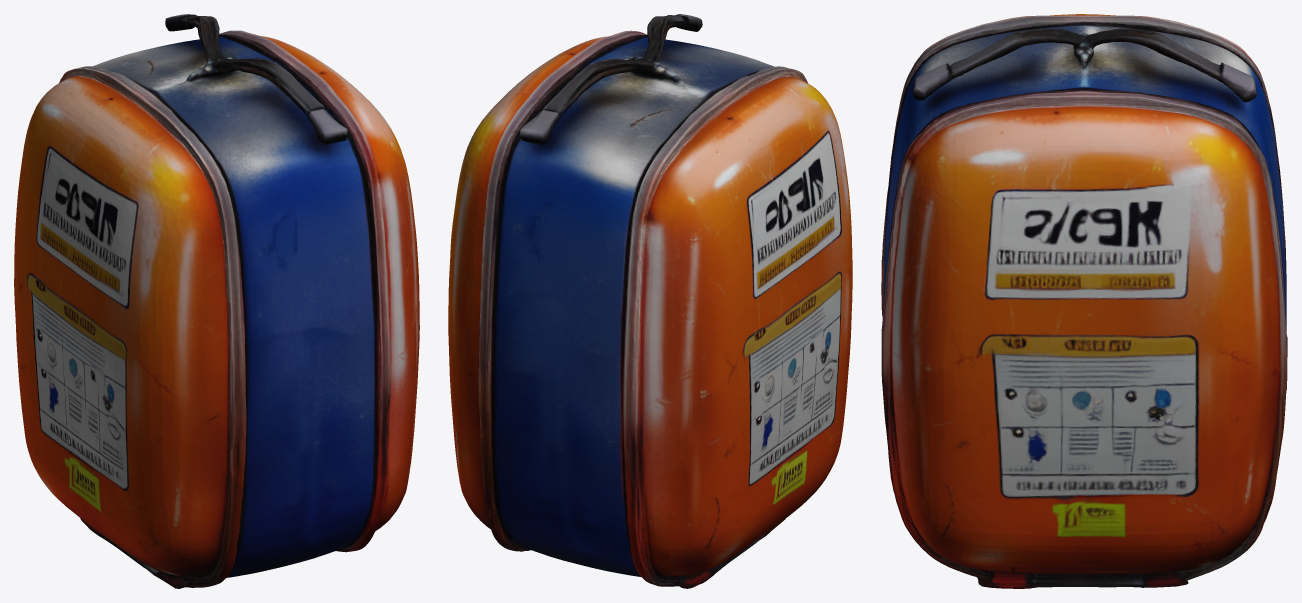
The model's file is ppe-scsr.glb.
3 views of the same model, side by side, from view 1: azimuth 30°, elevation 25°; view 2: azimuth 150°, elevation 25°; view 3: azimuth 270°, elevation 25° (orthographic). The views are drawn at different scales.
Parts seen in each view (by area): view 1: world; view 2: world; view 3: world.
Boxes of the visible parts, bbox=[...] form: world: bbox=[14, 14, 419, 588]; world: bbox=[448, 14, 852, 588]; world: bbox=[881, 14, 1287, 588].
Size of the model in its own units: 0.6158 by 0.9989 by 0.7069.
Materials: 1 (1 with a texture image).
